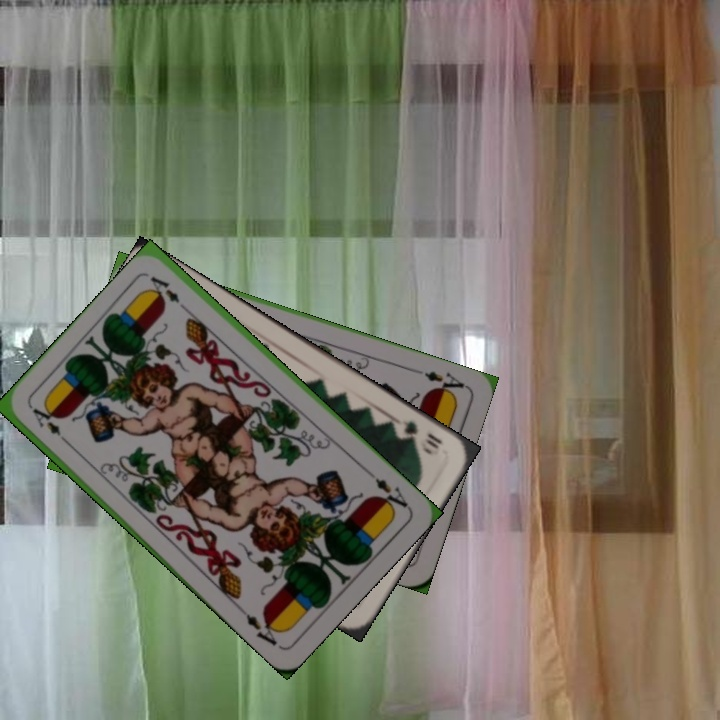EA: (364, 467, 411, 515), (28, 403, 74, 448), (410, 365, 468, 399)
G10: (397, 415, 446, 456)
